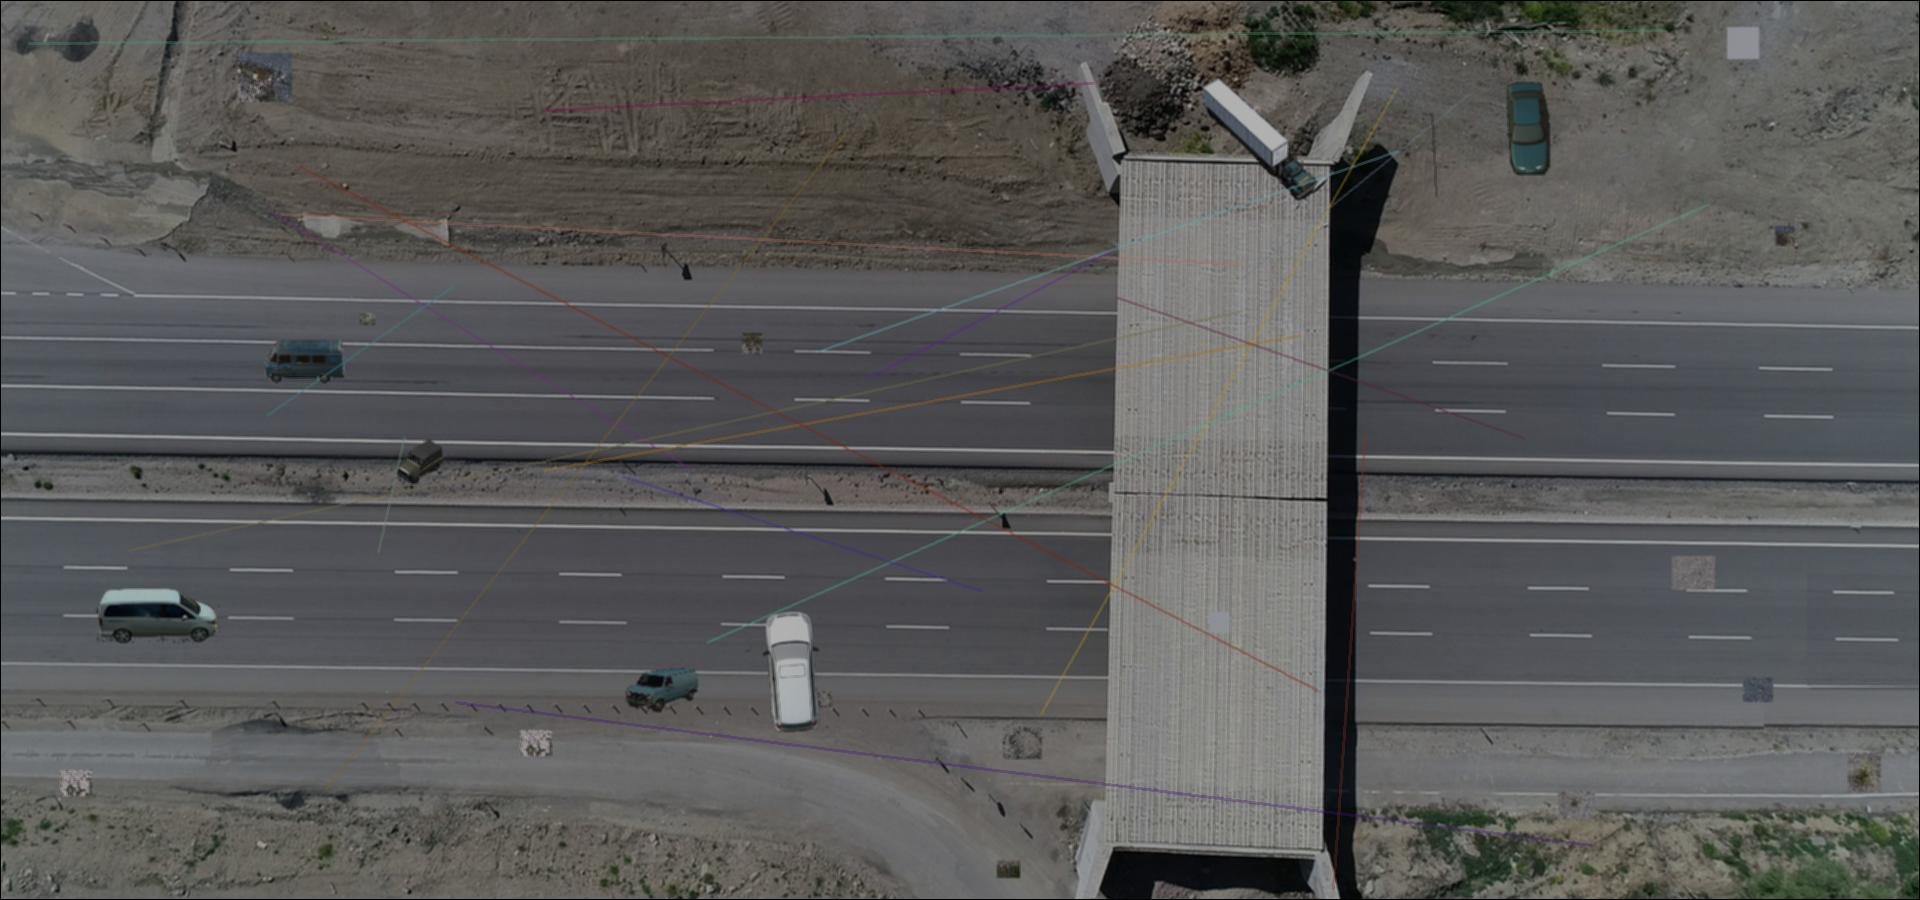arac: (1198, 78, 1318, 200), (757, 609, 825, 733), (96, 589, 220, 643), (1506, 82, 1550, 175), (264, 340, 347, 383), (624, 665, 698, 713), (397, 440, 443, 484)
